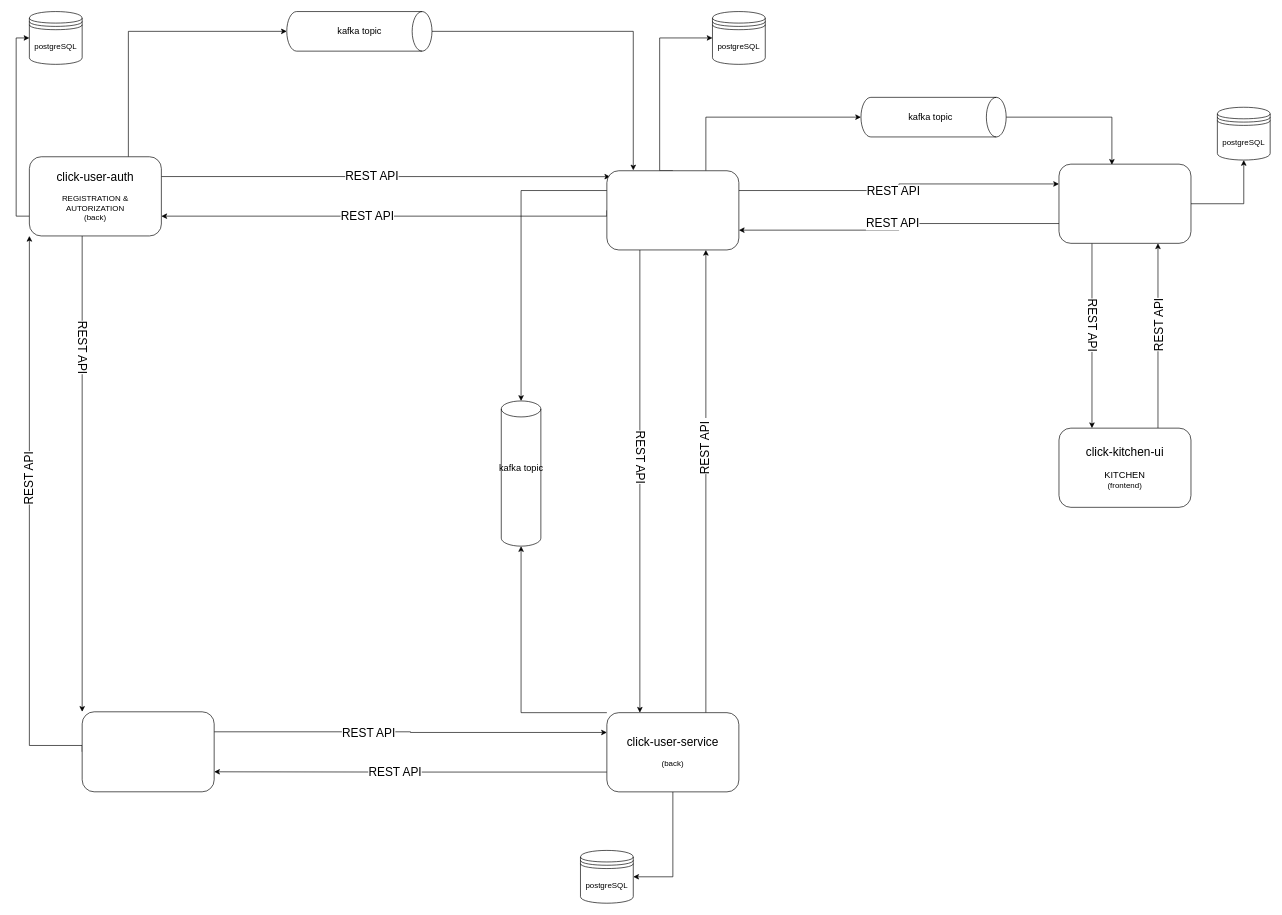
This 1282x915 diagram has some shape labels left out. Each missing label, with the centre of its shape:
click-kitchen-service KITCHEN (back): (x=1124, y=203)
click-service NUCLEUS (back): (x=672, y=210)
click-user-ui (frontend): (x=148, y=751)
